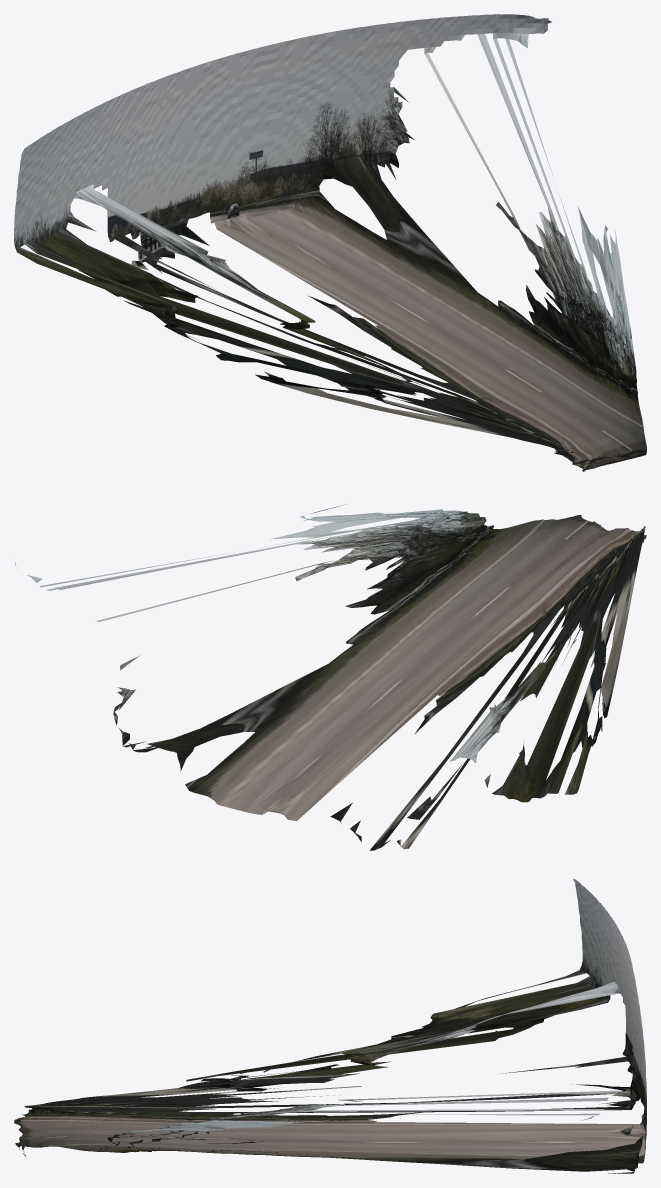
3 renders of one model, top to bottom at view 1: azimuth 30°, elevation 25°; view 2: azimuth 150°, elevation 25°; view 3: azimuth 270°, elevation 25°, orthographic. The views are drawn at different scales.
Visible parts, largest first — view 1: defaultobject; view 2: defaultobject; view 3: defaultobject.
Boxes of the visible parts, left/top/right/bottom form: defaultobject: left=14, top=14, right=646, bottom=471; defaultobject: left=14, top=504, right=646, bottom=850; defaultobject: left=14, top=879, right=646, bottom=1173.
Size of the model in its own units: 38.94 by 13.16 by 44.55.
1 material, 1 textured.
